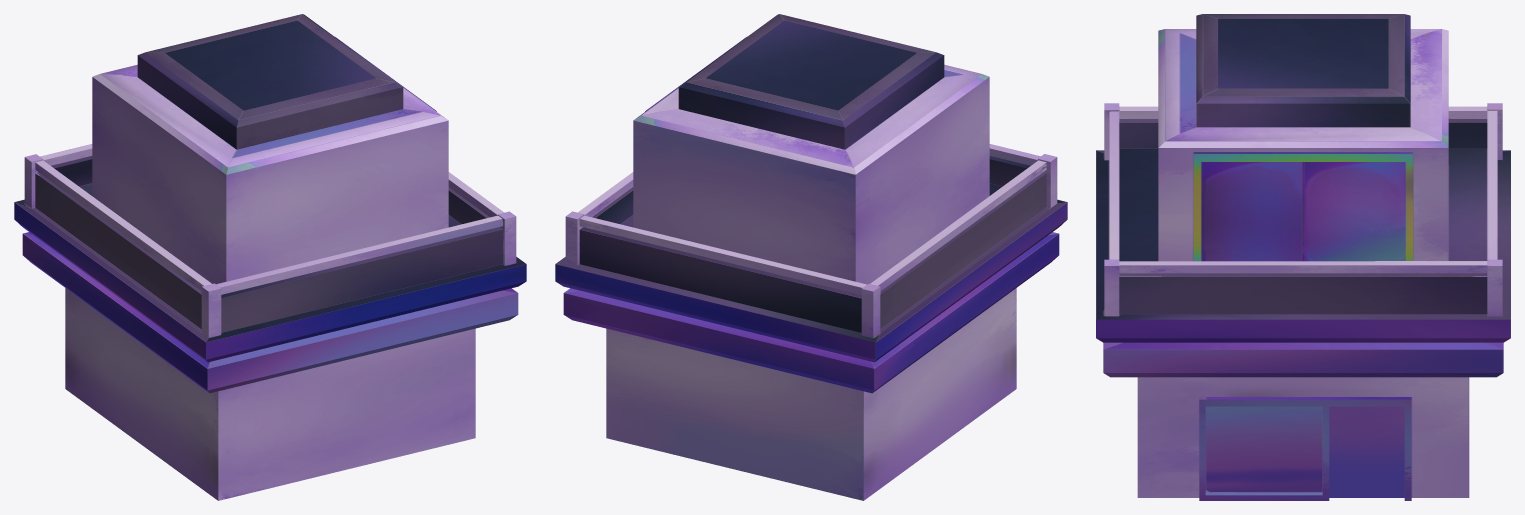
Rendered from SUP_ARCH_House01.fbx.
3 views of the same model, side by side, from view 1: azimuth 30°, elevation 25°; view 2: azimuth 150°, elevation 25°; view 3: azimuth 270°, elevation 25° (orthographic). The views are drawn at different scales.
Visible parts, largest first — view 1: m_superposed_HouseV1; view 2: m_superposed_HouseV1; view 3: m_superposed_HouseV1.
Part boxes in pixels (x1=…): m_superposed_HouseV1: x1=14, y1=14, x2=526, y2=500; m_superposed_HouseV1: x1=555, y1=14, x2=1067, y2=500; m_superposed_HouseV1: x1=1096, y1=14, x2=1510, y2=500.
Bounding box in the file's own units: 796 × 825 × 824.
Materials: 1 (1 with a texture image).
